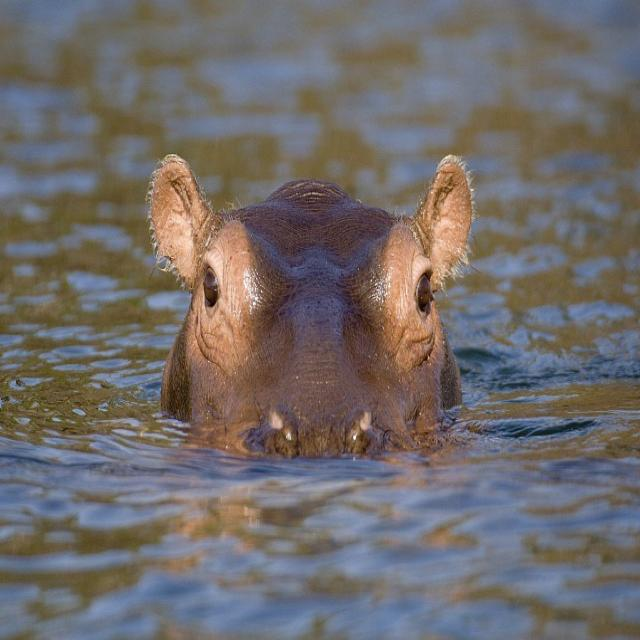hippopotamus: (149, 155, 472, 456)
